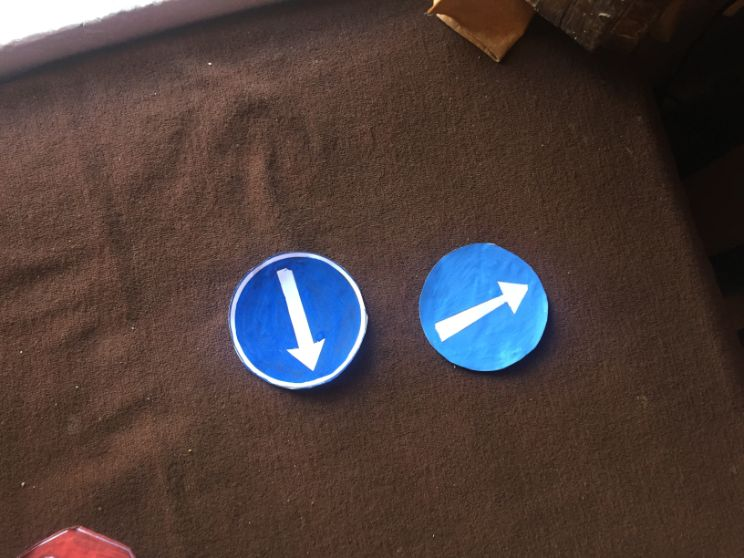go-stright: (228, 251, 367, 390)
keep-left: (420, 242, 548, 371)
